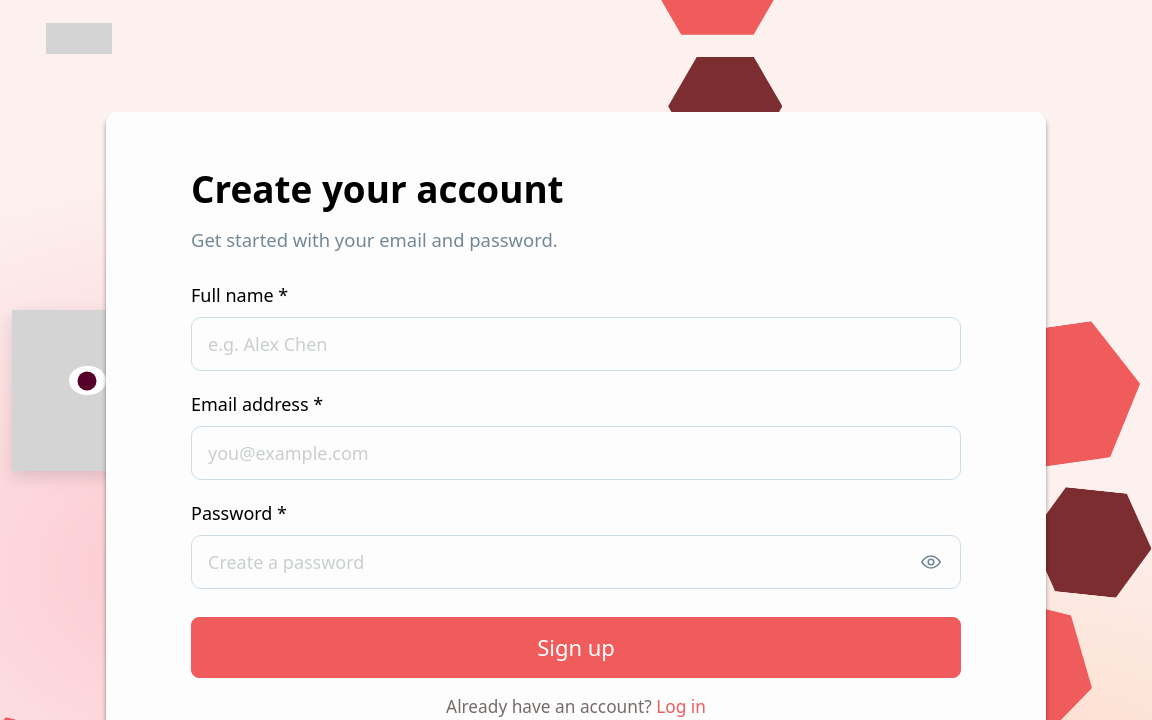
Signup page › renders "Check your inbox" confirmation state on successful signup
Type "Alex Chen" into the field labelled "Full name *".
click(576, 344); type("Alex Chen")  # box [191,317,961,371]
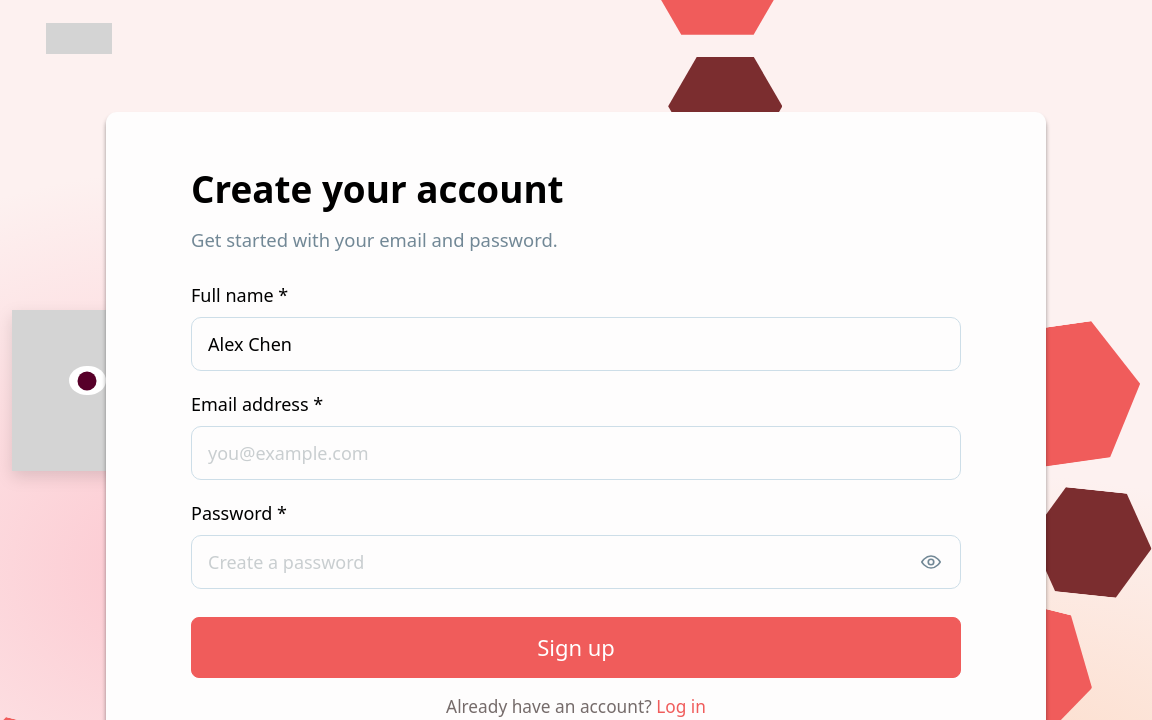
Type "alex@example.com" into the field labelled "Email address *".
click(576, 453); type("alex@example.com")  # box [191,426,961,480]
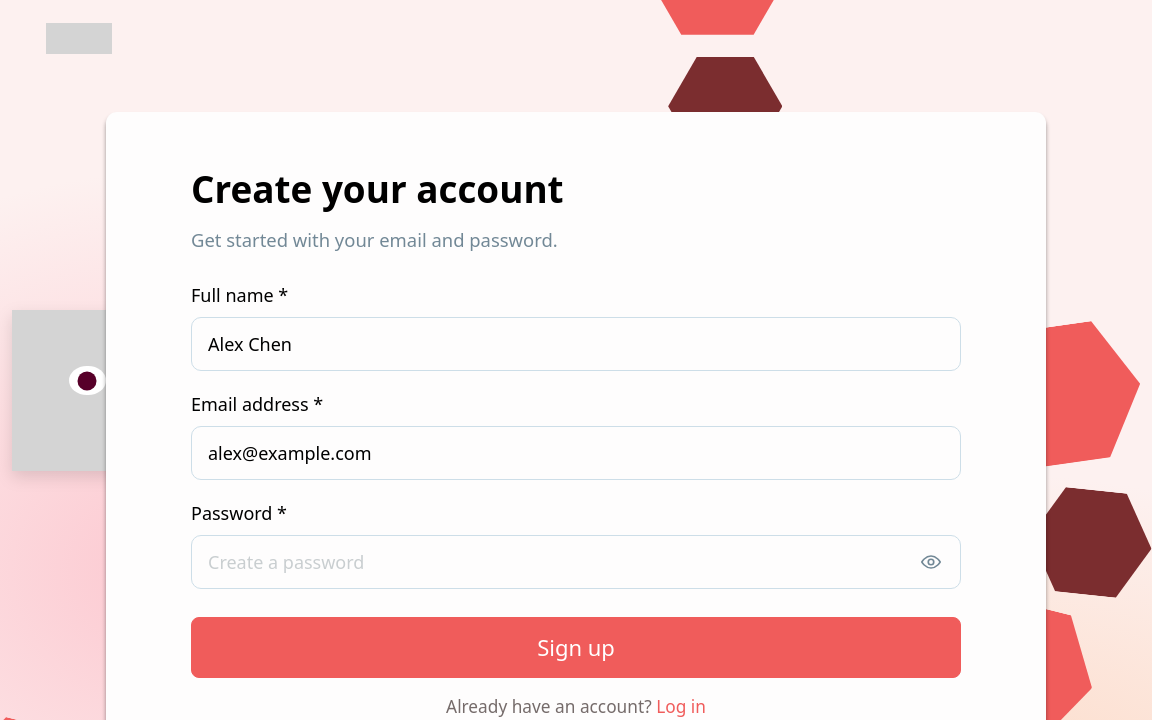
Type "secretPassword123" into the password field labelled "Password *".
click(576, 562); type("secretPassword123")  # box [191,535,961,589]
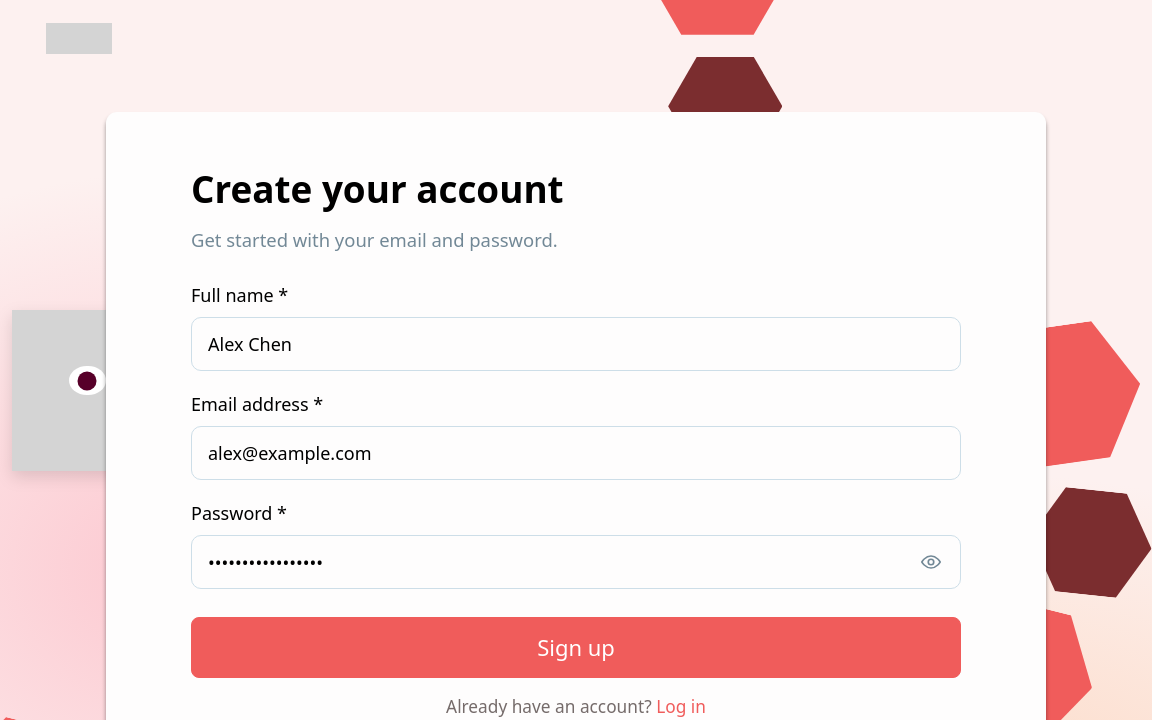
Click the button "Sign up".
click(576, 648)  # box [191,617,961,678]
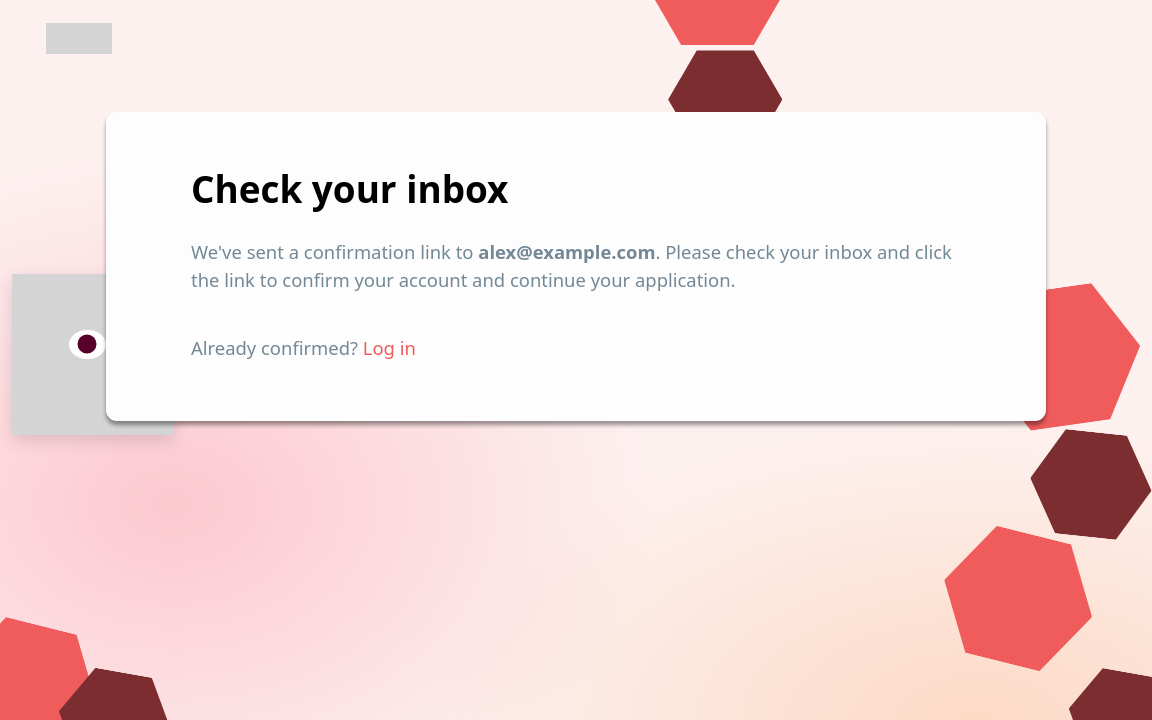
expect the heading "Check your inbox" is shown: met, box [191,164,508,214]
expect the text "alex@example.com" is shown: met, box [478,239,656,264]
expect the heading "Create your account" is gone: met
